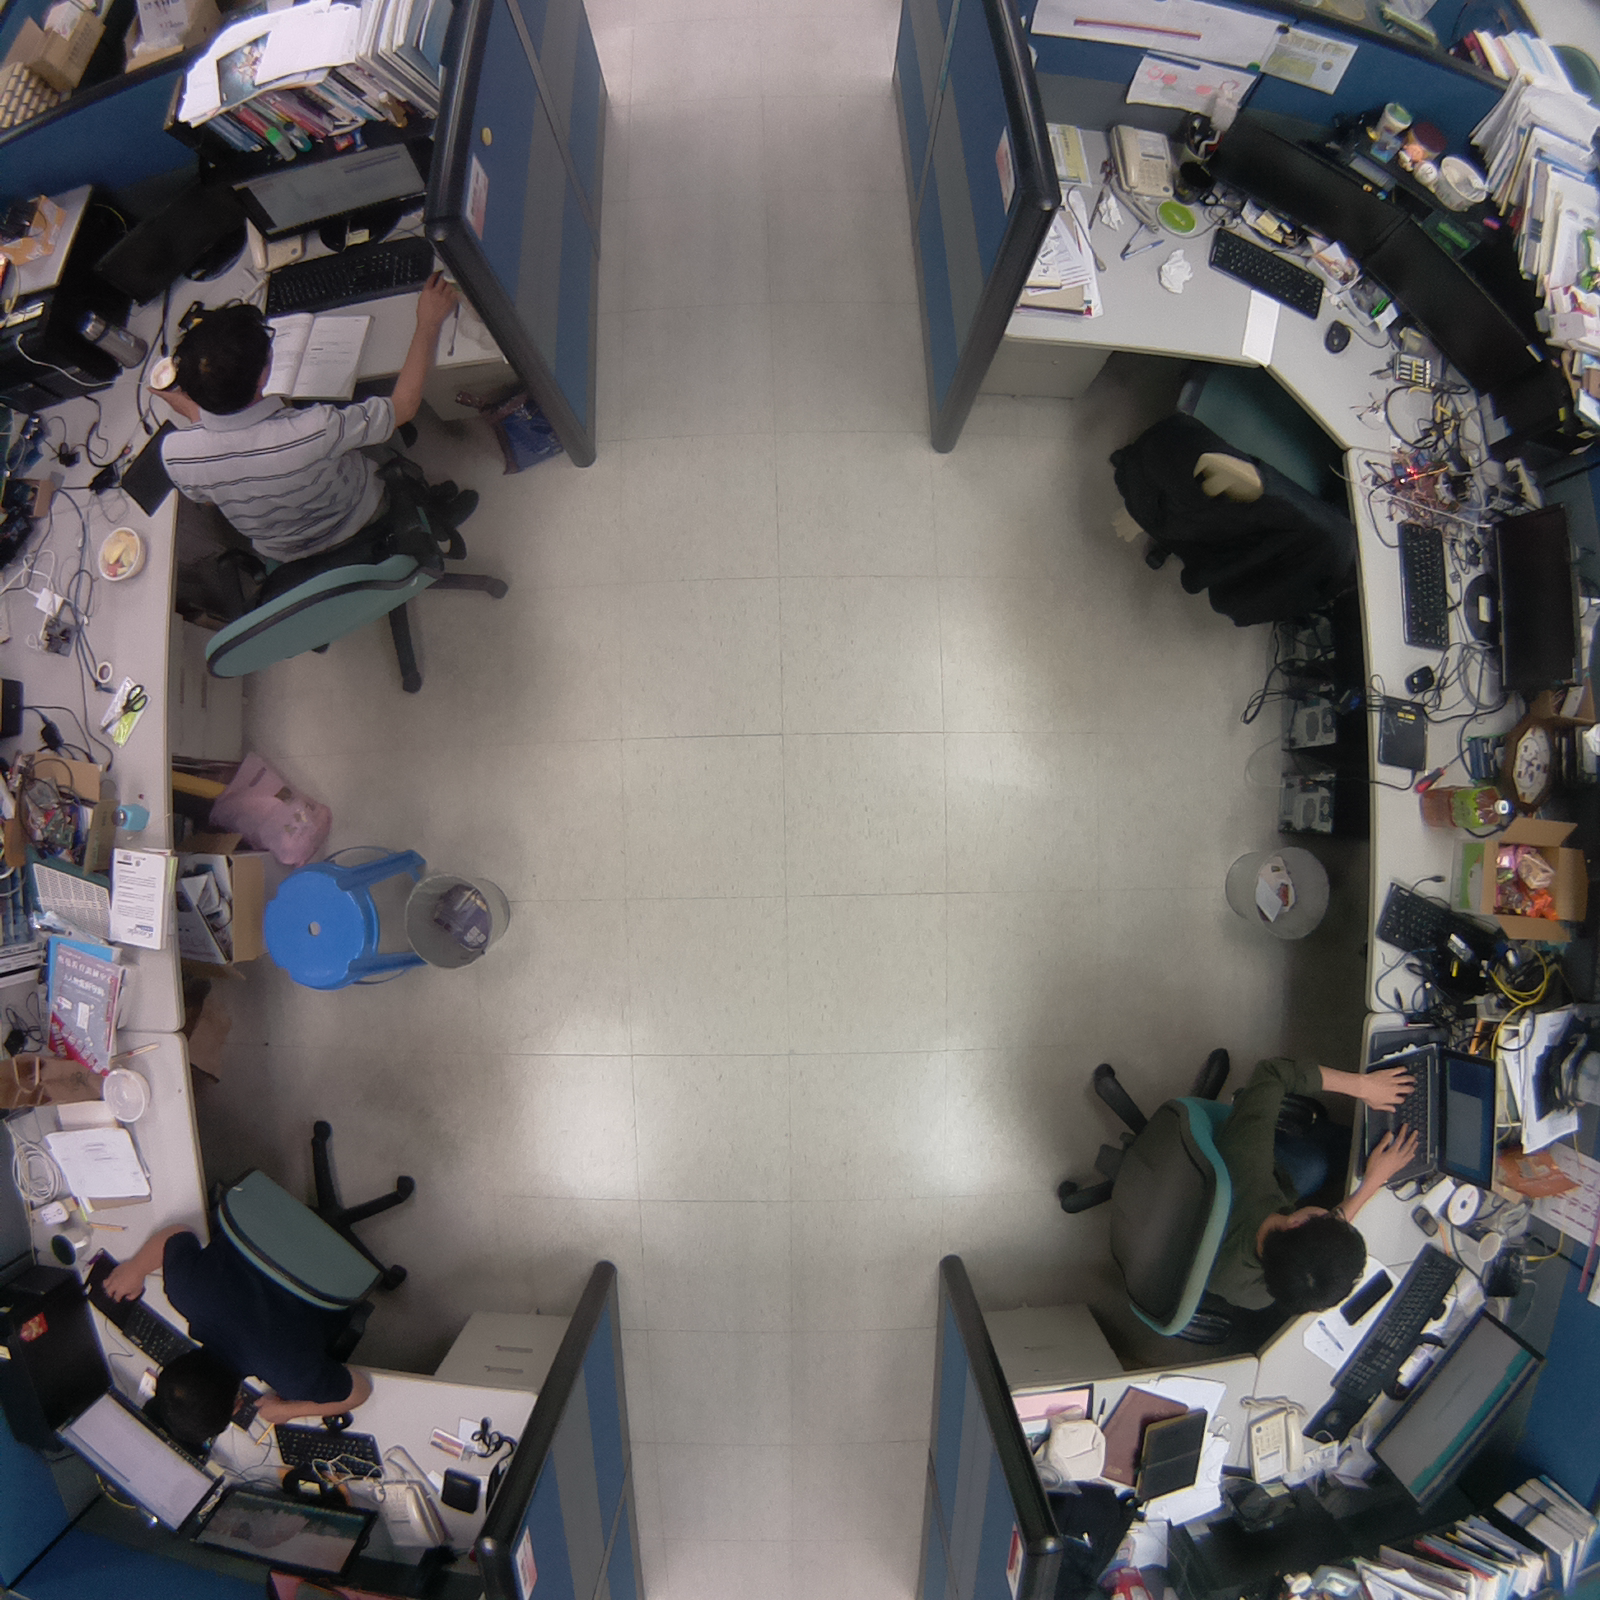chair: (1104, 332, 1376, 640)
head: (161, 297, 283, 414), (1257, 1195, 1366, 1317), (138, 1342, 249, 1451)
sitting: (155, 300, 532, 709), (1027, 1034, 1416, 1352), (91, 1101, 422, 1466)
